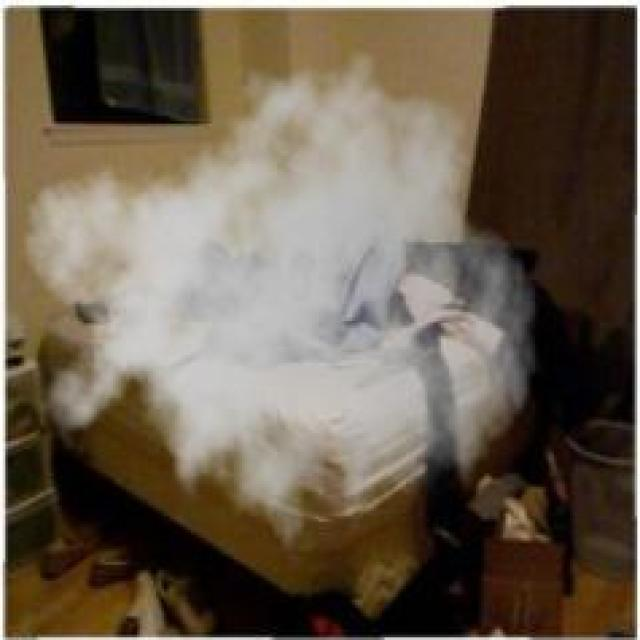fire: (20, 49, 539, 548)
